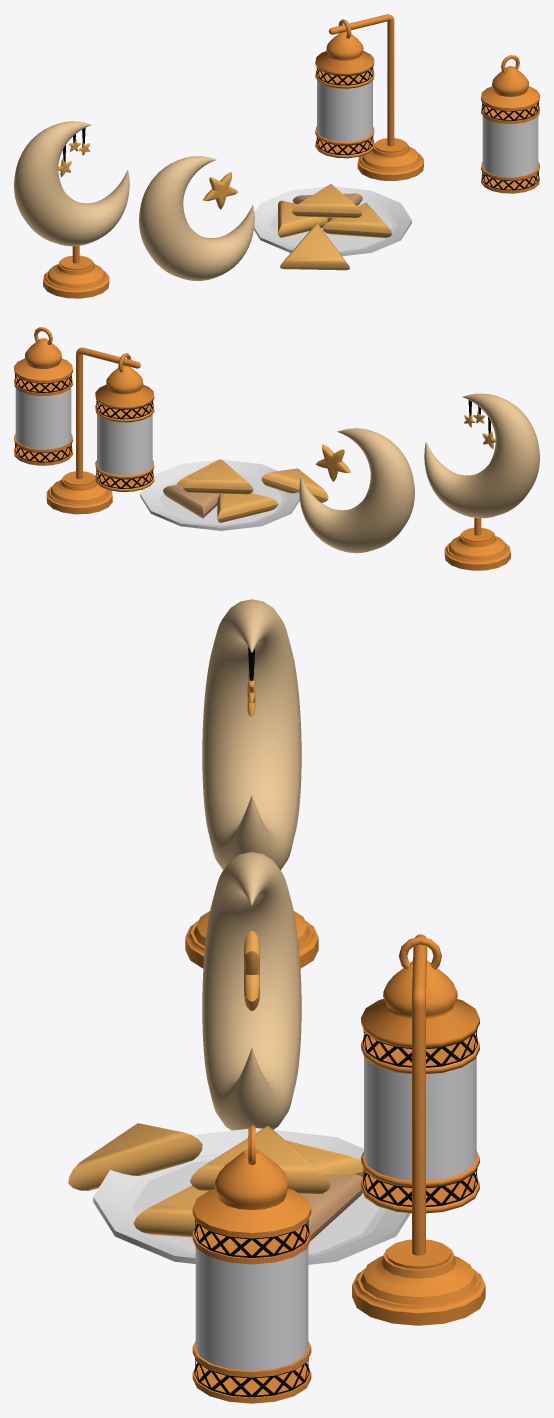
The model's file is assetpack.fbx.
The picture shows the model from 3 angles, top to bottom: view 1: azimuth 30°, elevation 25°; view 2: azimuth 150°, elevation 25°; view 3: azimuth 270°, elevation 25°; orthographic projection. The views are drawn at different scales.
Parts seen in each view (by area): view 1: NurbsPath.002, NurbsPath, Cylinder.001, Cylinder.002, Cylinder.009, Cylinder.005, Torus.001, Cylinder.007, Cylinder.012, Cylinder.008, Cylinder.003, Cylinder.011 (+2 smaller); view 2: NurbsPath.002, NurbsPath, Cylinder.001, Cylinder.009, Cylinder.005, Torus.001, Cylinder.007, Cylinder.012, Cylinder.002, Cylinder.008, Cylinder.003, Cylinder.004 (+4 smaller); view 3: NurbsPath, NurbsPath.002, Cylinder.009, Cylinder.005, Cylinder.007, Cylinder.001, Torus.001, Cylinder.012, Cylinder.002, Cylinder.003, Cylinder.006, Cylinder.011 (+3 smaller).
Boxes of the visible parts, x1,y1,x2,y2 form: NurbsPath.002: (14,121,129,246); NurbsPath: (139,156,254,280); Cylinder.001: (254,186,411,256); Cylinder.002: (278,184,391,237); Cylinder.009: (328,14,423,180); Cylinder.005: (481,55,539,193); Torus.001: (315,19,374,158); Cylinder.007: (482,115,538,177); Cylinder.012: (317,80,372,141); Cylinder.008: (43,245,109,298); Cylinder.003: (280,223,349,270); Cylinder.011: (316,66,373,155); NurbsPath.002: (424,393,539,518); NurbsPath: (299,428,414,553); Cylinder.001: (140,459,299,530); Cylinder.009: (46,347,140,514); Cylinder.005: (14,327,72,465); Torus.001: (95,353,154,491); Cylinder.007: (15,388,71,449); Cylinder.012: (97,414,152,475); Cylinder.002: (176,459,278,522); Cylinder.008: (444,518,510,570); Cylinder.003: (261,468,328,502); Cylinder.004: (163,485,219,518); NurbsPath: (202,852,301,1130); NurbsPath.002: (202,599,301,870); Cylinder.009: (352,934,485,1325); Cylinder.005: (192,1124,311,1403); Cylinder.007: (195,1246,308,1370); Cylinder.001: (93,1128,410,1264); Torus.001: (361,936,479,1213); Cylinder.012: (364,1057,476,1180); Cylinder.002: (133,1125,365,1237); Cylinder.003: (68,1123,202,1190); Cylinder.006: (194,1219,309,1397); Cylinder.011: (362,1029,477,1206).
Bounding box in the file's own units: 1796 × 626 × 625.
